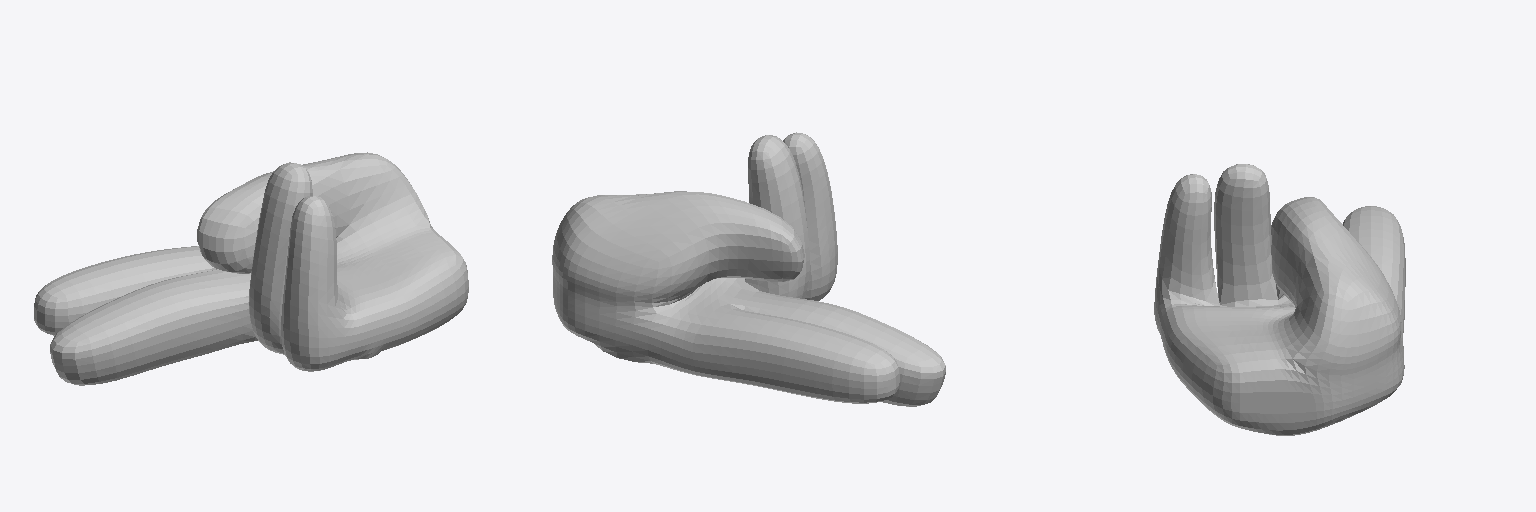
3 views of the same model, side by side, from view 1: azimuth 30°, elevation 25°; view 2: azimuth 150°, elevation 25°; view 3: azimuth 270°, elevation 25° (orthographic).
Parts seen in each view (by area): view 1: UHand001; view 2: UHand001; view 3: UHand001.
Boxes of the visible parts, x1,y1,x2,y2 form: UHand001: [34, 152, 468, 385]; UHand001: [552, 132, 945, 406]; UHand001: [1154, 164, 1405, 435].
Bounding box in the file's own units: 184 × 92.74 × 106.